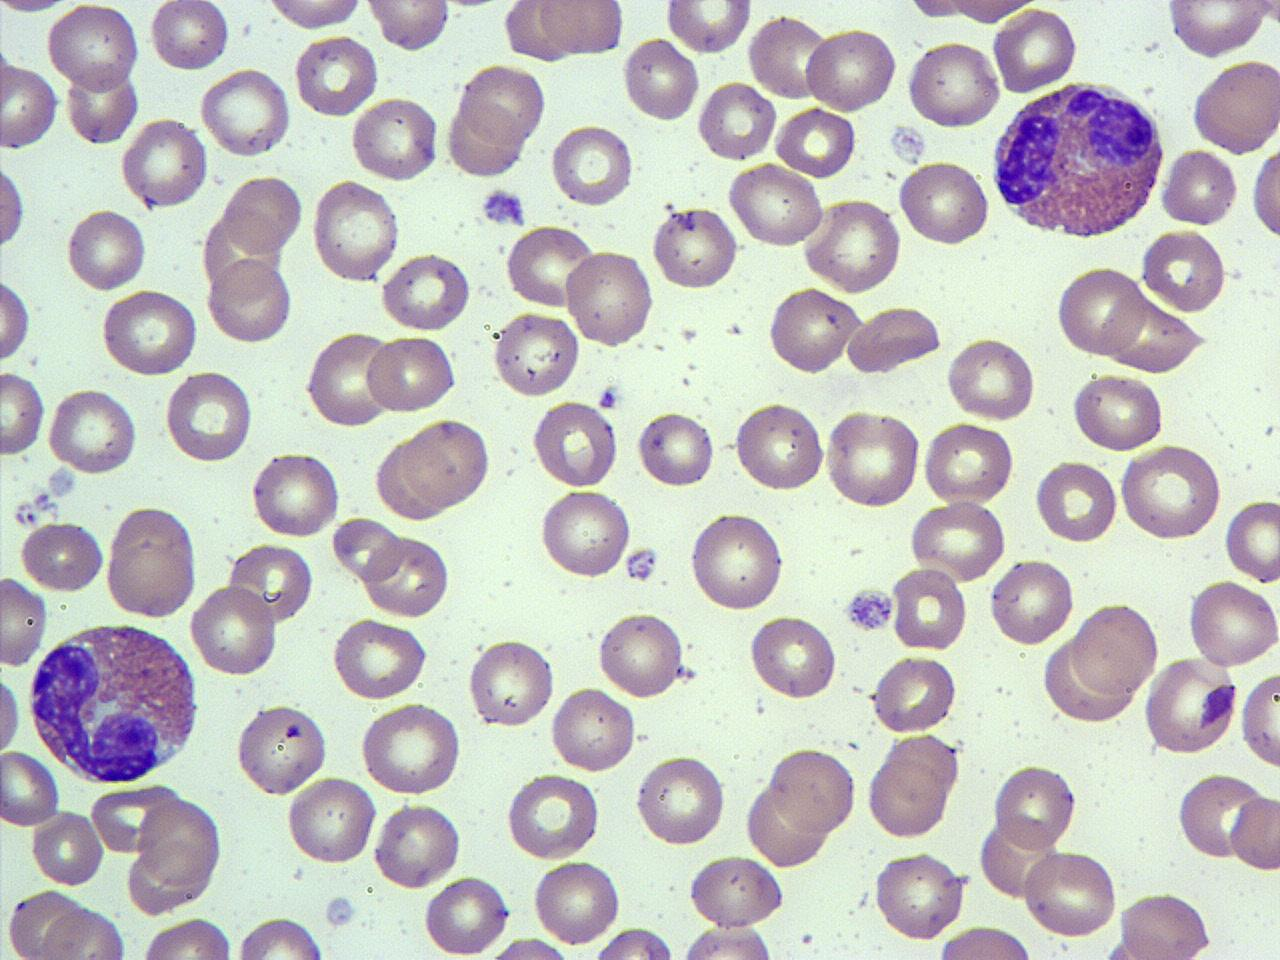Platelets: (842, 586, 896, 631), (480, 186, 527, 229), (597, 385, 621, 410)
RBC: (104, 504, 200, 620), (687, 509, 787, 613), (863, 734, 961, 840), (800, 195, 904, 294), (1118, 443, 1224, 540), (359, 700, 464, 797), (824, 406, 922, 509), (562, 245, 656, 351), (870, 849, 974, 944), (1142, 654, 1238, 756), (308, 177, 401, 282), (234, 702, 332, 798), (904, 37, 1004, 131), (1054, 264, 1150, 359), (1021, 847, 1119, 940), (464, 635, 558, 731), (538, 486, 634, 580), (118, 114, 210, 212), (98, 288, 200, 376), (329, 616, 433, 702), (162, 370, 256, 465), (732, 399, 826, 494), (285, 774, 380, 868), (46, 2, 142, 95), (502, 771, 602, 860), (1185, 576, 1279, 670), (198, 66, 294, 158), (1070, 600, 1162, 696), (802, 24, 898, 116), (634, 752, 726, 848), (188, 580, 278, 678), (305, 329, 392, 430), (402, 414, 494, 509), (594, 609, 690, 700), (1190, 57, 1280, 154), (726, 161, 826, 248), (530, 856, 624, 948), (896, 158, 992, 248), (944, 333, 1039, 422), (1176, 770, 1268, 861), (766, 285, 858, 376), (45, 386, 140, 474), (1069, 369, 1167, 454), (372, 800, 464, 890), (991, 5, 1081, 97), (768, 744, 858, 836), (748, 612, 840, 702), (649, 201, 739, 293), (491, 308, 581, 400), (135, 796, 223, 890), (251, 450, 342, 540), (530, 398, 620, 488), (989, 760, 1079, 850), (922, 420, 1016, 506), (364, 332, 460, 416), (205, 257, 295, 346), (1138, 226, 1230, 313), (988, 556, 1075, 648), (379, 250, 474, 334), (349, 95, 440, 182), (908, 501, 1008, 580), (686, 851, 786, 930), (548, 686, 636, 774), (1033, 456, 1119, 546), (548, 122, 636, 209), (360, 534, 450, 619), (504, 223, 594, 308), (421, 874, 512, 958), (293, 32, 380, 119), (871, 651, 958, 737), (228, 540, 314, 626), (620, 34, 701, 125), (63, 206, 148, 292), (845, 302, 945, 375), (748, 12, 830, 101), (1116, 888, 1216, 960), (461, 61, 548, 143), (443, 97, 528, 179), (222, 171, 303, 257), (18, 517, 106, 596), (696, 78, 776, 163), (636, 407, 716, 491), (892, 565, 968, 653), (63, 66, 142, 148), (147, 0, 233, 74), (1158, 146, 1236, 227), (774, 104, 858, 179), (1164, 0, 1272, 58), (31, 806, 105, 888), (3, 886, 84, 959), (1, 56, 59, 150), (0, 746, 62, 830), (1222, 495, 1280, 584), (662, 0, 754, 56), (331, 514, 404, 582), (537, 0, 624, 57), (39, 904, 125, 960), (0, 574, 50, 668), (364, 0, 451, 53), (1238, 667, 1280, 772), (136, 915, 236, 959), (1228, 790, 1280, 874), (233, 914, 329, 959), (0, 369, 48, 458), (931, 924, 1039, 960), (674, 925, 778, 960), (264, 0, 368, 33), (0, 270, 33, 366), (1249, 147, 1280, 242), (590, 926, 676, 960), (473, 936, 578, 960), (0, 161, 27, 254), (0, 665, 22, 761)
WBC: (989, 77, 1169, 246), (23, 619, 203, 786)
